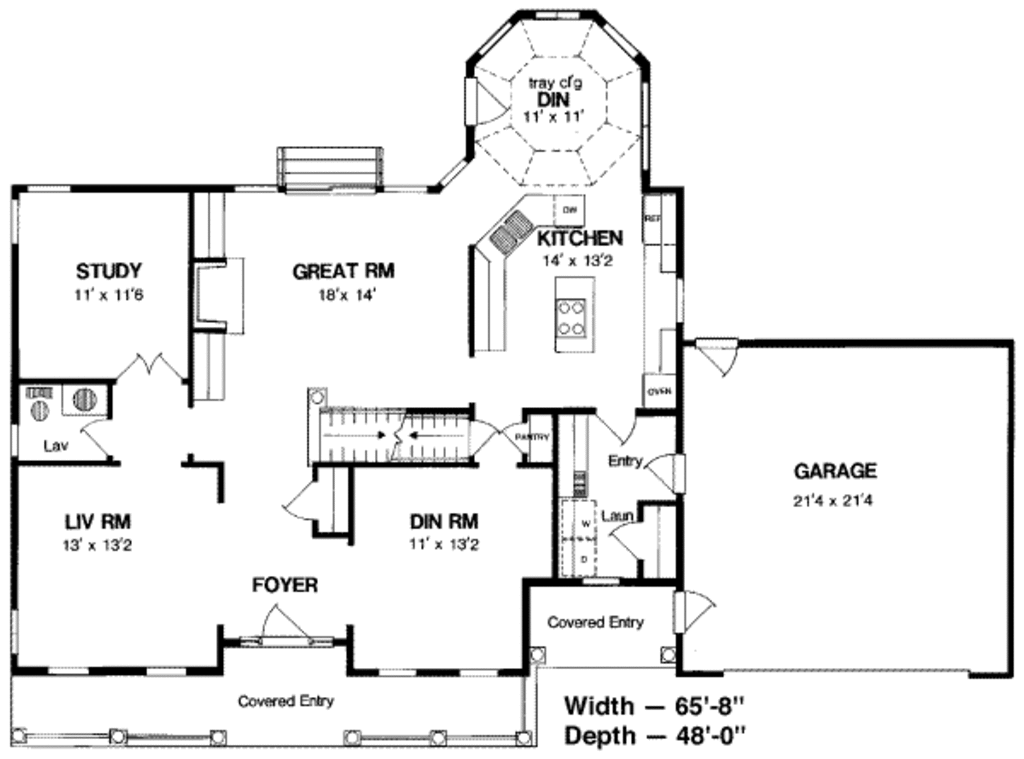door: (106, 350, 188, 389), (689, 329, 746, 383), (275, 467, 326, 522), (666, 585, 718, 636), (638, 452, 694, 498), (258, 605, 316, 649), (73, 416, 120, 463), (596, 404, 640, 443), (611, 518, 647, 559), (497, 419, 536, 456), (468, 417, 503, 453)
large_sink: (14, 380, 61, 424)
small_sink: (65, 382, 116, 410)
stairs: (314, 402, 484, 476), (270, 139, 384, 194)
twin_sink: (474, 179, 544, 272)
window: (15, 179, 79, 196), (3, 422, 30, 459), (6, 194, 25, 246)
